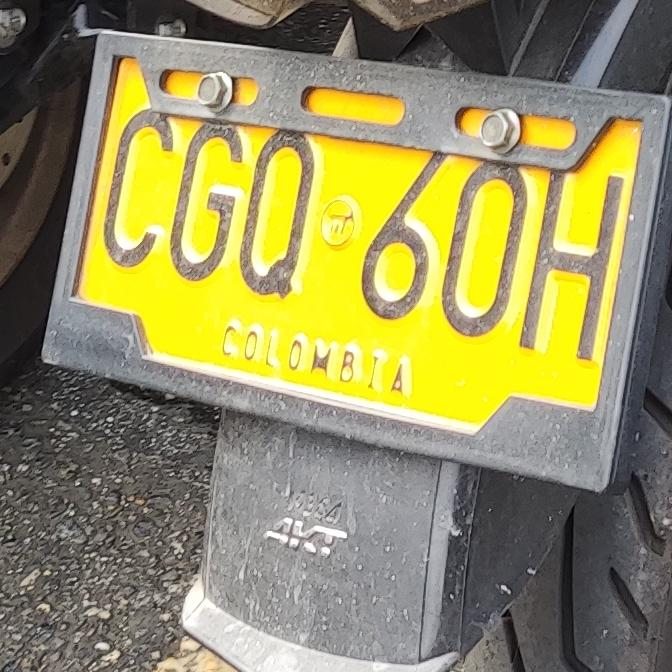plates: (51, 40, 664, 491)
